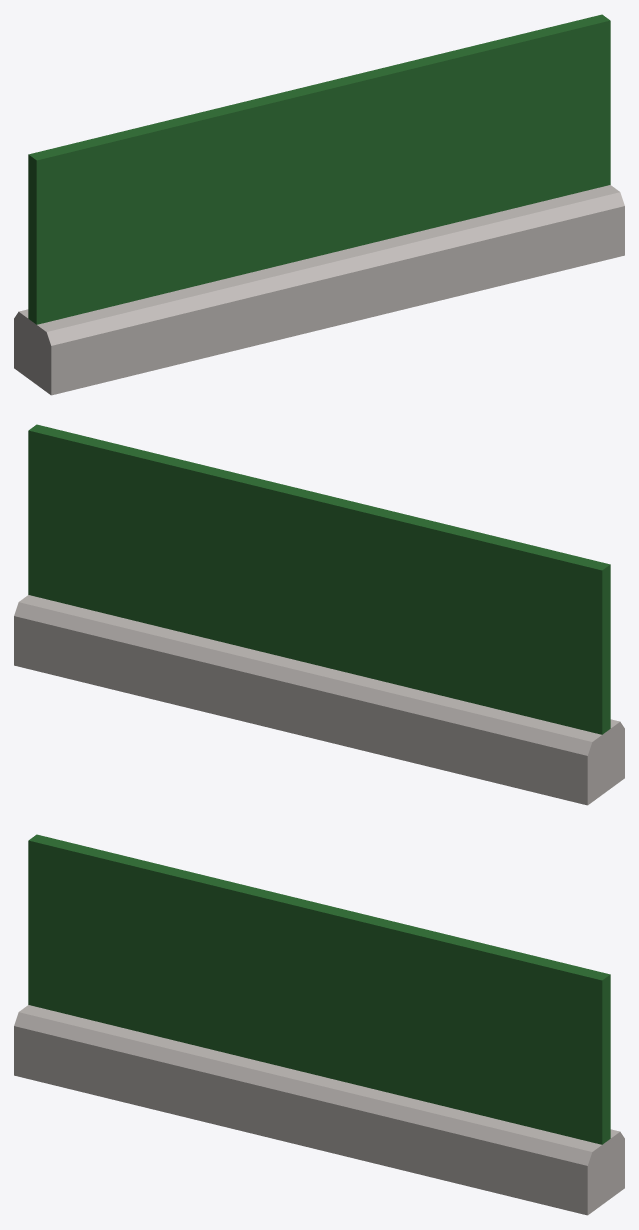
File: props_fence-stone-metal.fbx
3 renders of one model, top to bottom at view 1: azimuth 30°, elevation 25°; view 2: azimuth 150°, elevation 25°; view 3: azimuth 330°, elevation 25°, orthographic.
Parts seen in each view (by area): view 1: props_fence_stone_metal; view 2: props_fence_stone_metal; view 3: props_fence_stone_metal.
Boxes of the visible parts, x1,y1,x2,y2 form: props_fence_stone_metal: [14, 14, 624, 395]; props_fence_stone_metal: [14, 424, 624, 805]; props_fence_stone_metal: [14, 834, 624, 1215].
Size of the model in its own units: 200 by 74.75 by 22.5.
